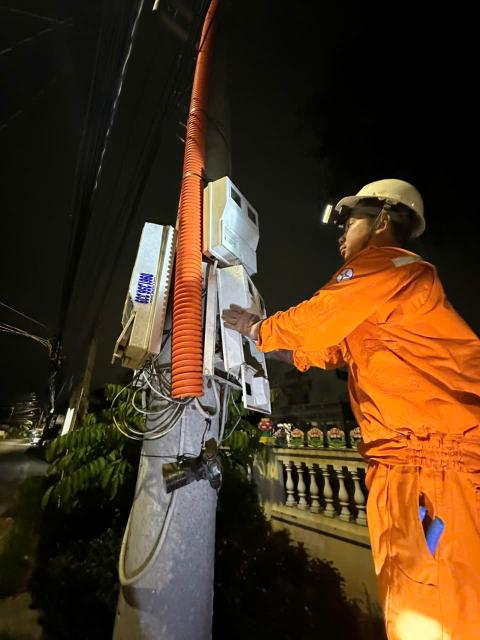gloves: (204, 299, 277, 345), (254, 340, 318, 372)
helmet: (327, 181, 438, 246)
